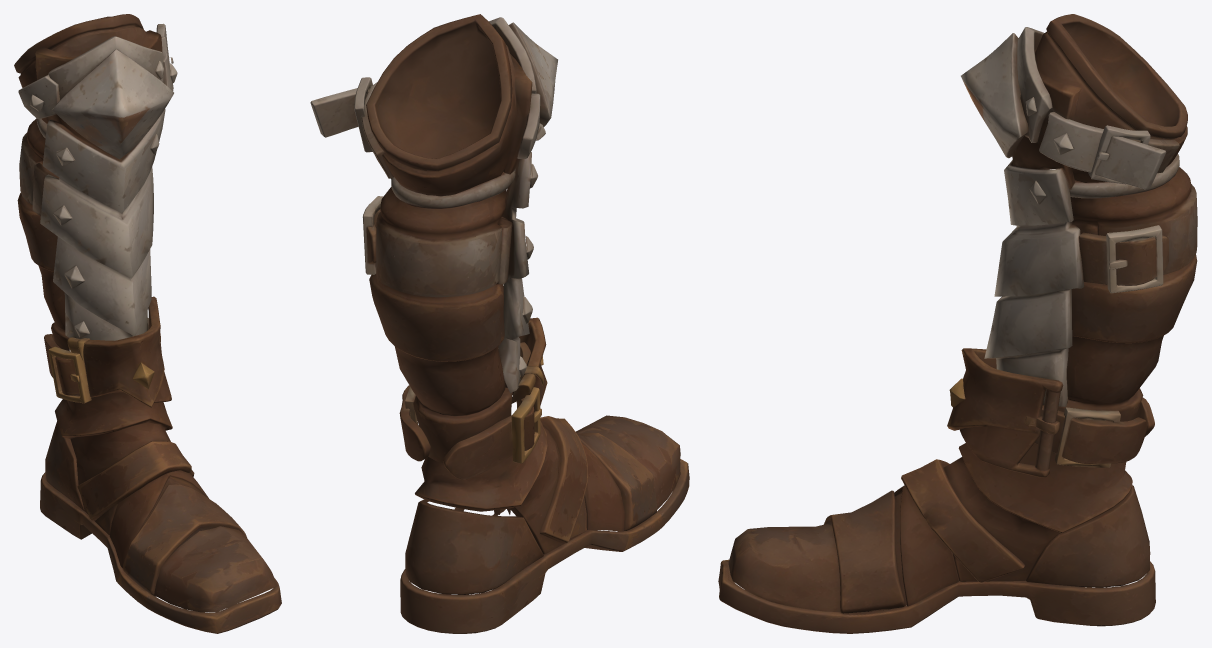
Rendered from botas-eromash-base.glb.
3 views of the same model, side by side, from view 1: azimuth 30°, elevation 25°; view 2: azimuth 150°, elevation 25°; view 3: azimuth 270°, elevation 25° (orthographic). The views are drawn at different scales.
Visible parts, largest first — view 1: tripo_31f62166_e7e9_4fd5_9bb4_02e072c7b676; view 2: tripo_31f62166_e7e9_4fd5_9bb4_02e072c7b676; view 3: tripo_31f62166_e7e9_4fd5_9bb4_02e072c7b676.
Part boxes in pixels (x1,y1,x2,y2): tripo_31f62166_e7e9_4fd5_9bb4_02e072c7b676: (14,14,281,633); tripo_31f62166_e7e9_4fd5_9bb4_02e072c7b676: (310,14,689,633); tripo_31f62166_e7e9_4fd5_9bb4_02e072c7b676: (718,14,1197,633).
Size of the model in its own units: 0.3511 by 0.9995 by 0.7407.
Materials: 1 (1 with a texture image).
